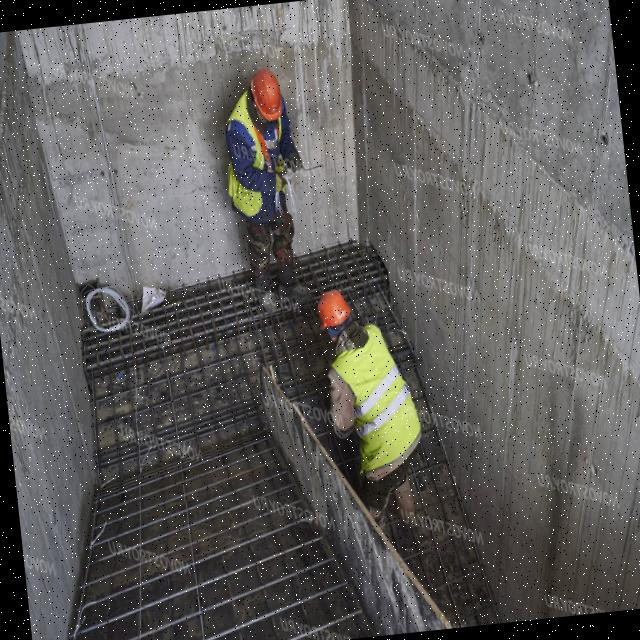Helmet: (248, 67, 286, 123), (314, 287, 355, 336)
Jacket: (332, 328, 412, 469), (231, 113, 294, 210)
